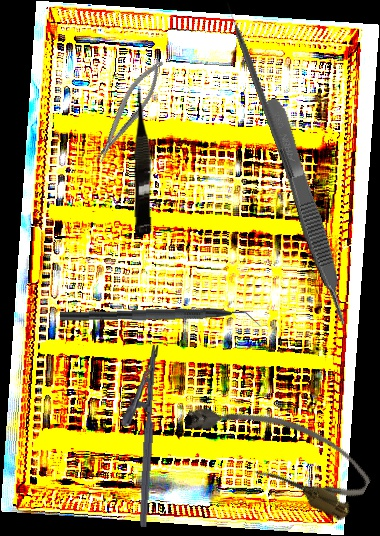Cannula: (176, 374, 379, 526)
Chopper: (59, 304, 262, 336)
Hook Surgical: (224, 0, 297, 179)
Micro Scissor: (132, 85, 155, 235)
Needle Holder: (84, 54, 173, 167), (113, 343, 161, 527)
Tissue Forceps: (261, 95, 353, 329)
